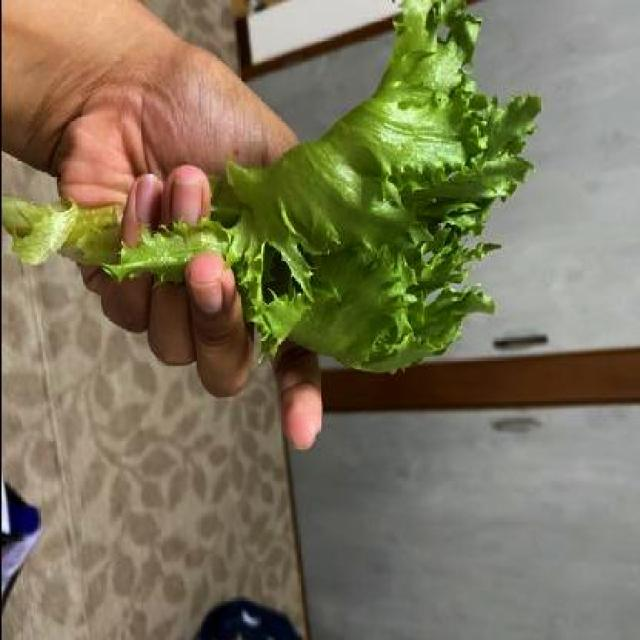Lettuce: (9, 0, 549, 366)
